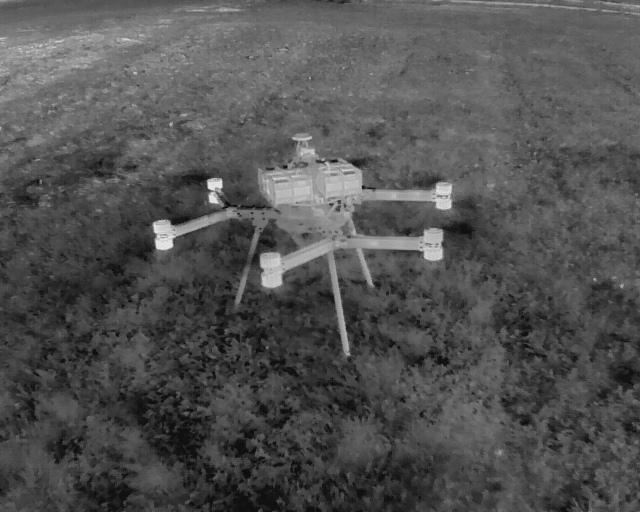drone: (103, 100, 502, 372)
